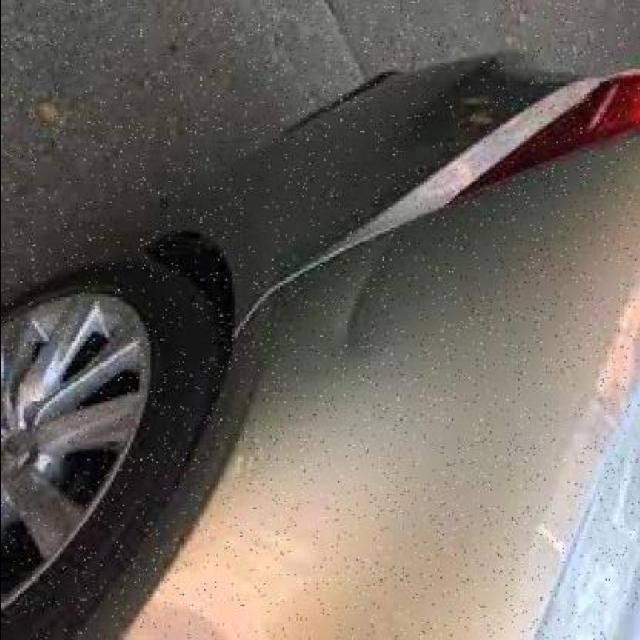quaterpanel-dent: (113, 212, 593, 636)
